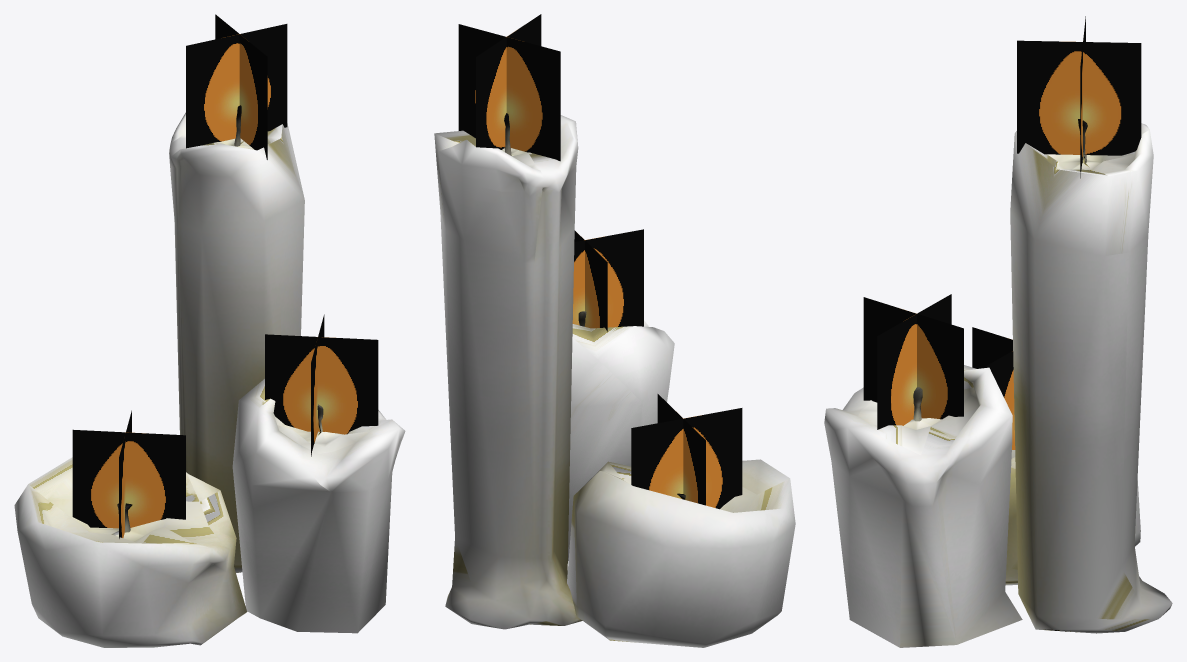
File: candle_cluster_flame_low.glb
3 views of the same model, side by side, from view 1: azimuth 30°, elevation 25°; view 2: azimuth 150°, elevation 25°; view 3: azimuth 270°, elevation 25° (orthographic). The views are drawn at different scales.
Visible parts, largest first — view 1: candle_cluster_flame_low; view 2: candle_cluster_flame_low; view 3: candle_cluster_flame_low.
Boxes of the visible parts, bbox=[...] form: candle_cluster_flame_low: bbox=[14, 14, 405, 647]; candle_cluster_flame_low: bbox=[434, 14, 795, 647]; candle_cluster_flame_low: bbox=[824, 16, 1172, 647].
Bounding box in the file's own units: 0.4635 × 0.7255 × 0.3996.
4 materials, 4 textured.
